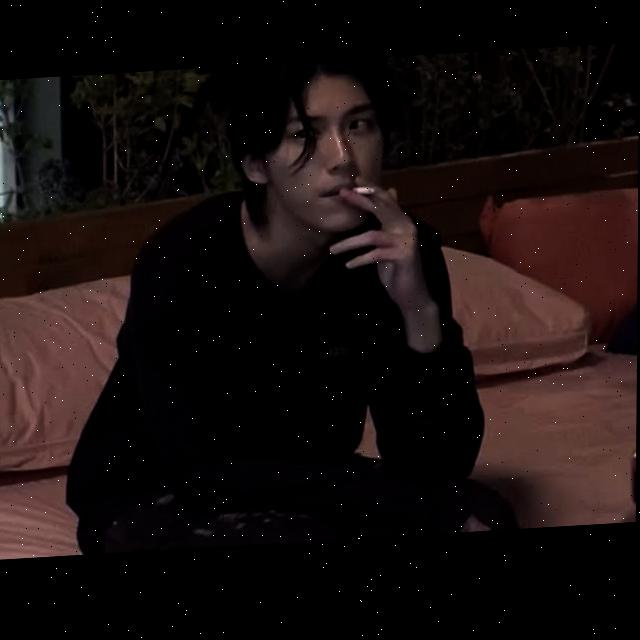cigarette: (353, 190, 375, 200)
